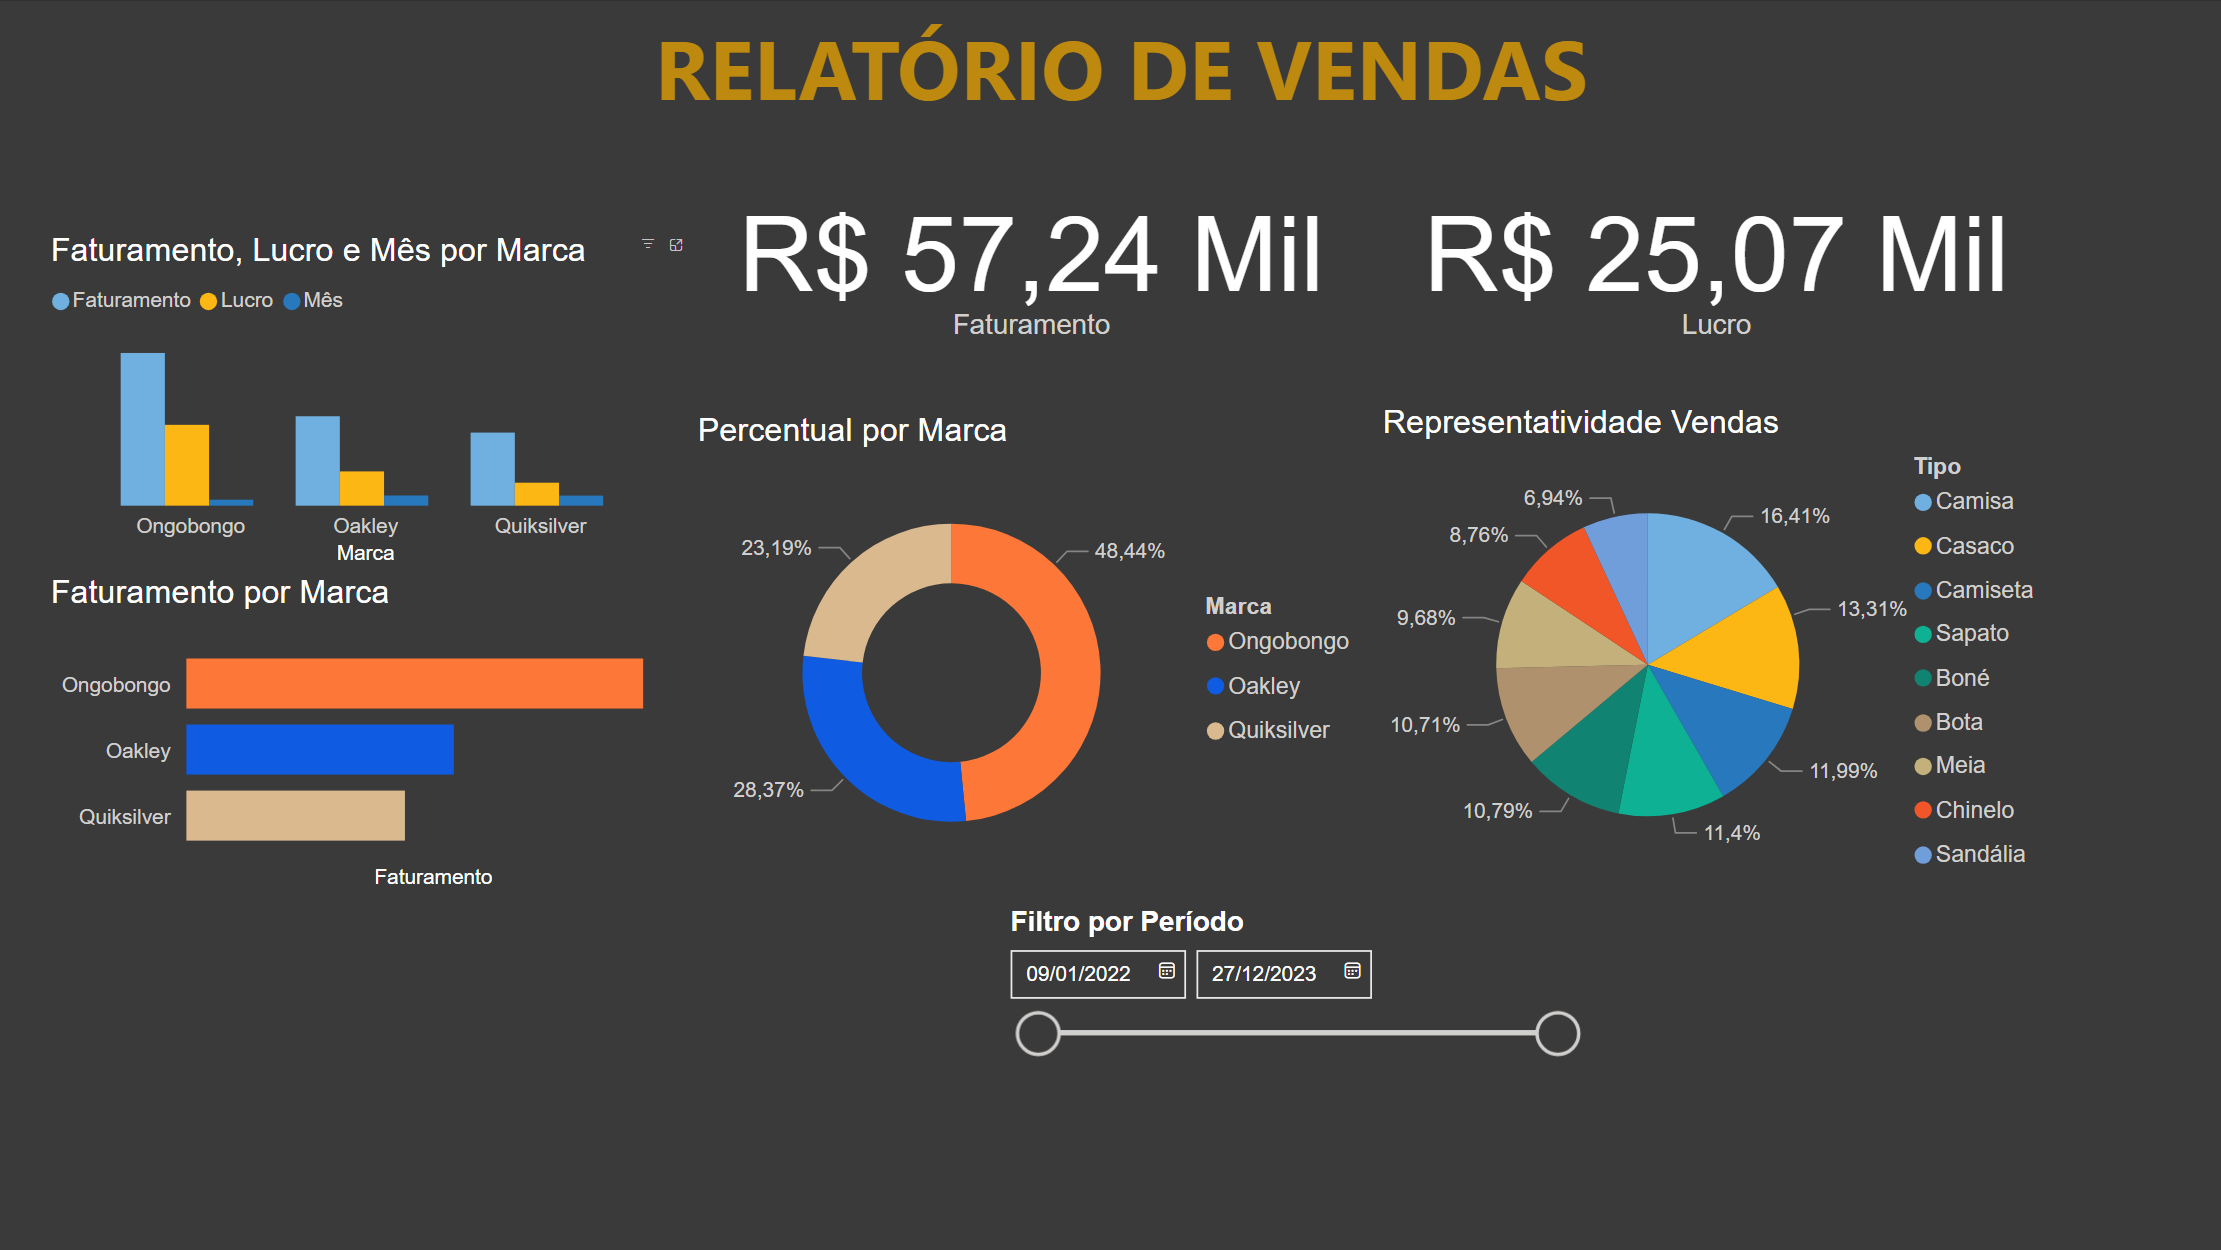

This screenshot's page, from the dashboard's own definition file:
{"tool":"powerbi","page":{"name":"Página 1","canvas":[1280,720],"ordinal":0},"visuals":[{"type":"textbox","box":[10.3,0,1270.3,280.3],"z":0},{"type":"clusteredColumnChart","fields":{"Y":["Sum(Vendas.Faturamento)","Sum(Vendas.Lucro)","Sum(Vendas.Mês)"],"Category":["Vendas.Marca"]},"box":[23.9,132.2,372.5,197.1],"z":1000},{"type":"clusteredBarChart","fields":{"Y":["Sum(Vendas.Faturamento)"],"Category":["Vendas.Marca"]},"box":[23.9,329.2,372.5,186.8],"z":2000},{"type":"donutChart","fields":{"Y":["Sum(Vendas.Faturamento)"],"Category":["Vendas.Marca"]},"box":[396.5,235.8,394.2,280.3],"z":3000},{"type":"pieChart","title":"Representatividade Vendas","fields":{"Y":["Sum(Vendas.Mês)"],"Category":["Vendas.Tipo"]},"box":[790.6,231.3,394.2,280.3],"z":4000},{"type":"slicer","fields":{"Values":["Vendas.Dia"]},"box":[568.5,516.1,348.6,188],"z":5000},{"type":"card","fields":{"Values":["Sum(Vendas.Faturamento)"]},"box":[396.5,67.2,394.2,164.1],"z":6000},{"type":"card","fields":{"Values":["Sum(Vendas.Lucro)"]},"box":[790.6,67.2,394.2,164.1],"z":7000}]}

Visuals, with their boxes in screenshot pixels (x1, y1, x2, y2), scaled from the page's 1280x720 canvas onto the 2221x1250 screenshot:
textbox: <region>18, 0, 2220, 487</region>
clusteredColumnChart - Sum(Vendas.Faturamento) x Sum(Vendas.Lucro): <region>41, 230, 688, 572</region>
clusteredBarChart - Sum(Vendas.Faturamento) x Vendas.Marca: <region>41, 572, 688, 896</region>
donutChart - Sum(Vendas.Faturamento) x Vendas.Marca: <region>688, 409, 1372, 896</region>
"Representatividade Vendas" pieChart: <region>1372, 402, 2056, 888</region>
slicer - Vendas.Dia: <region>986, 896, 1591, 1222</region>
card - Sum(Vendas.Faturamento): <region>688, 117, 1372, 402</region>
card - Sum(Vendas.Lucro): <region>1372, 117, 2056, 402</region>
